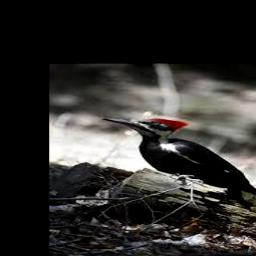Woodpecker: (103, 116, 256, 206)
